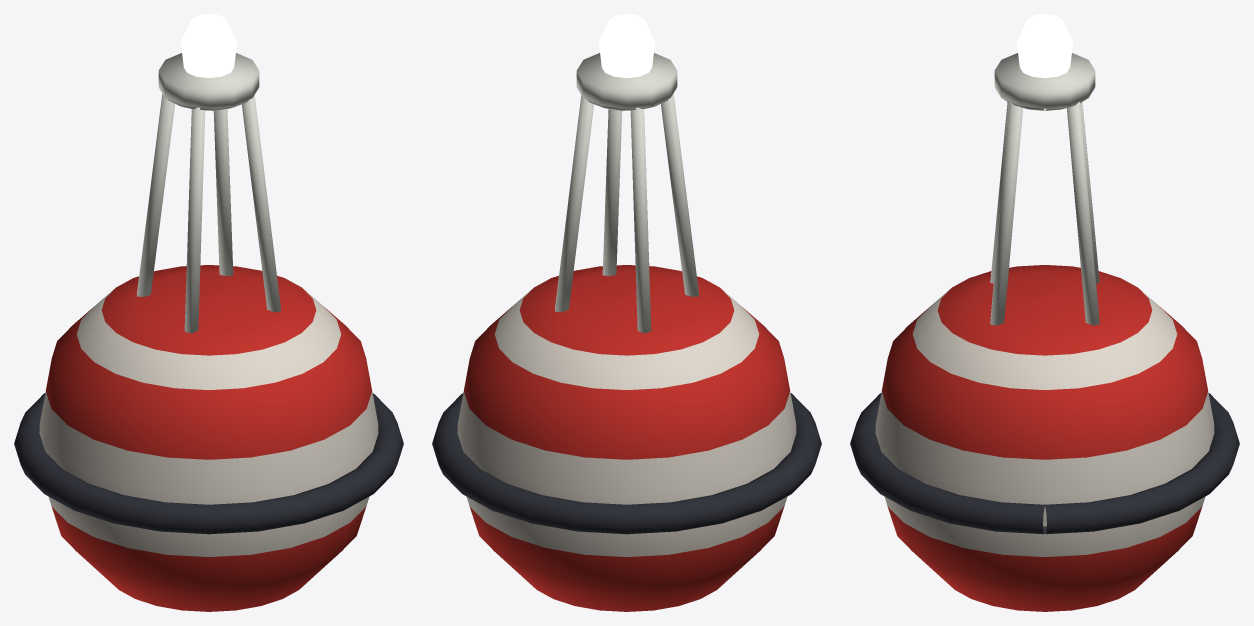
File: buoy.glb
3 renders of one model, left to right at view 1: azimuth 30°, elevation 25°; view 2: azimuth 150°, elevation 25°; view 3: azimuth 270°, elevation 25°, orthographic.
Parts seen in each view (by area): view 1: buoy_mesh; view 2: buoy_mesh; view 3: buoy_mesh.
Boxes of the visible parts, x1,y1,x2,y2 form: buoy_mesh: (14,14,403,611); buoy_mesh: (432,14,821,611); buoy_mesh: (850,14,1239,611).
Size of the model in its own units: 1.24 by 2 by 1.24.
